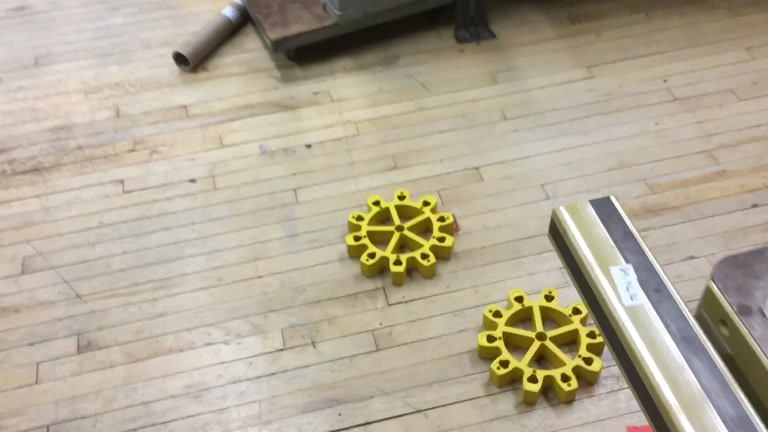gear: (474, 286, 607, 405), (345, 188, 456, 287)
